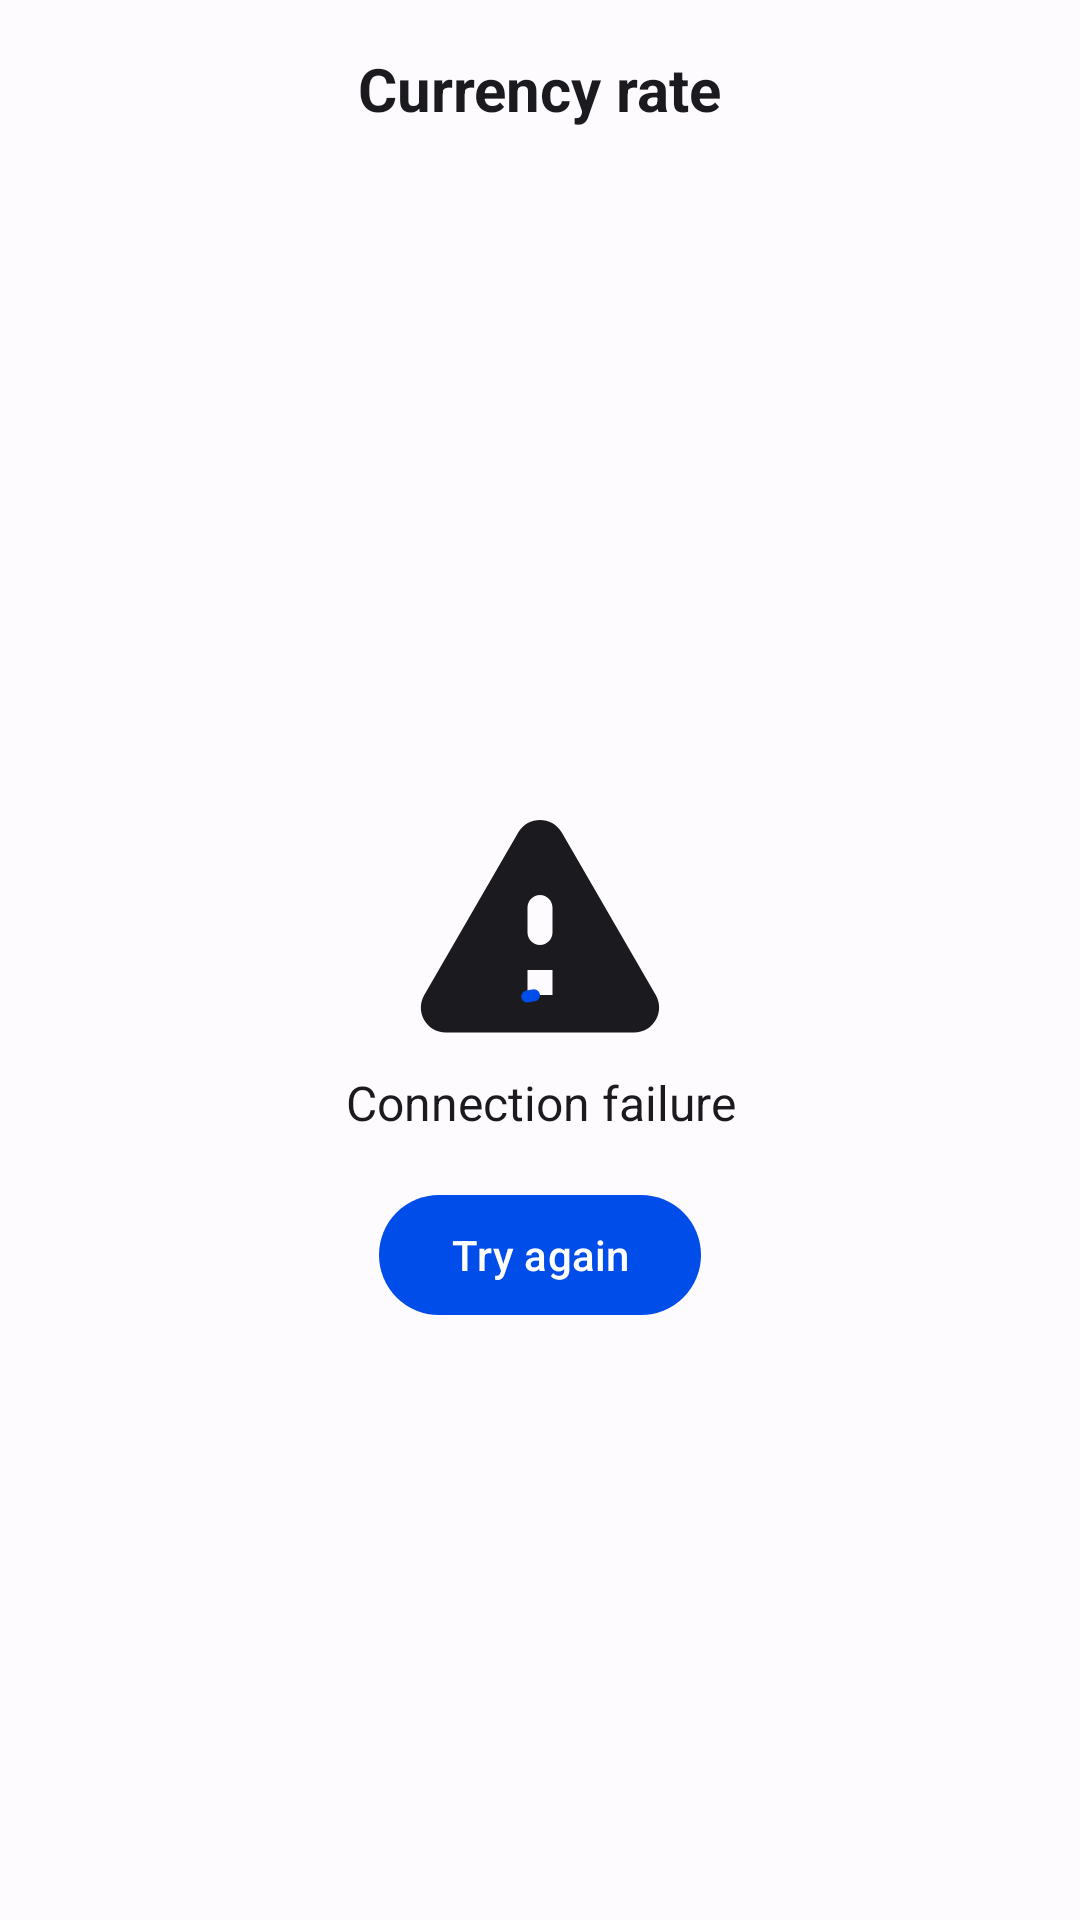

Where icons sit on this 1080px x 1920px app screen, as (x1=x1, y1=y1, x2=x2, y2=y2):
warning: (x1=420, y1=820, x2=659, y2=1033)
